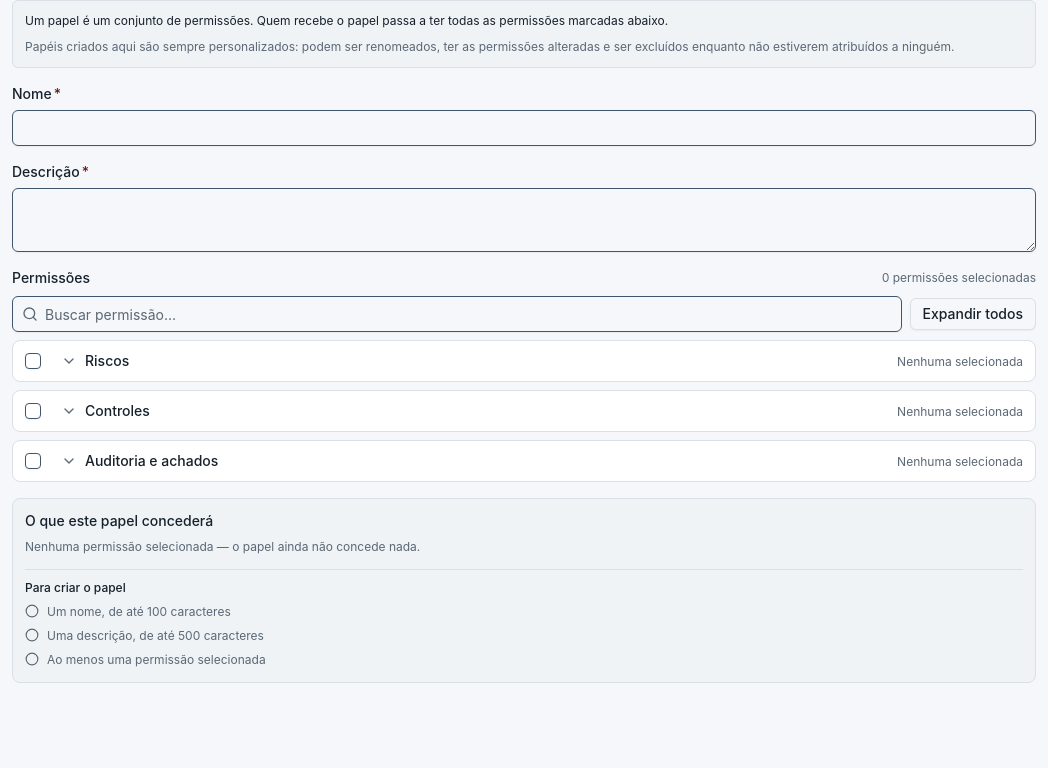
Test: RoleEditFields — searching the permission tree (migrated from PermissionChecklist) › says so when nothing matches, and restores the tree when the search is cleared
This screenshot has width=1048, height=768.
Expected: the button "Riscos Nenhuma selecionada" is shown, [49,341,1035,381]
Type "inexistente-xyz" into the field labelled "Buscar permissão" at point(457, 314), box [12,296,902,332]
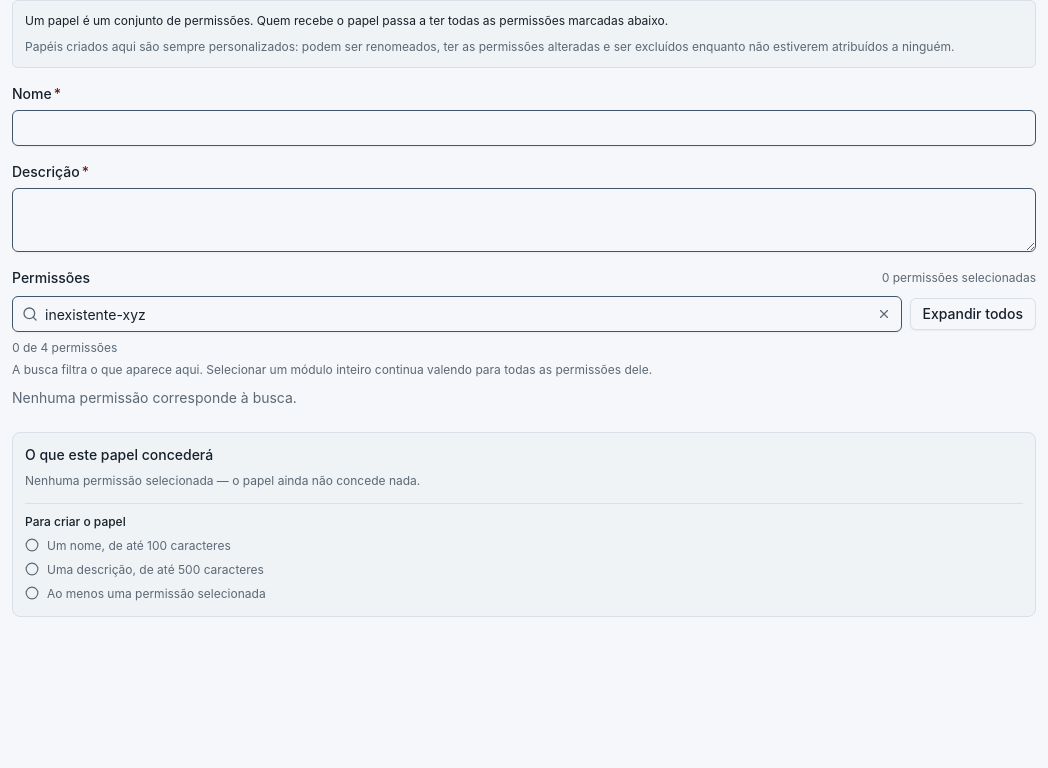
Expected: the text "Nenhuma permissão corresponde à busca." is shown, [12,389,297,406]
Expected: the button "Riscos" is gone
Click the button named "Limpar a busca de permissões" at point(884, 314), box [872,302,896,326]
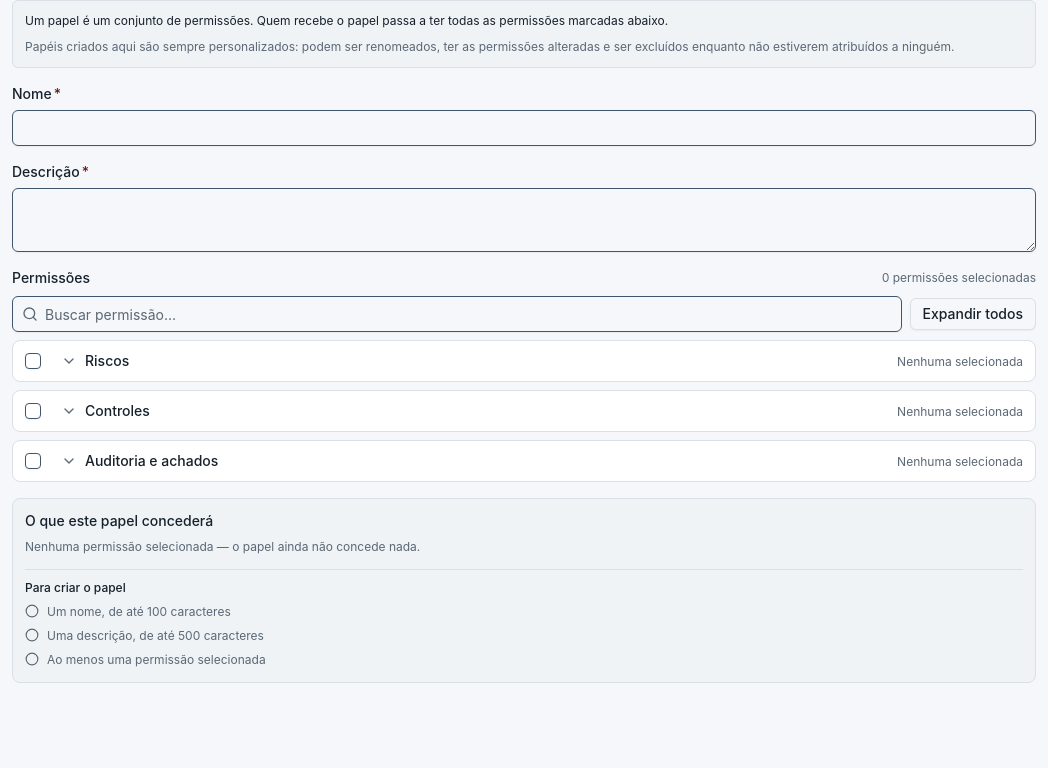
Expected: the button "Riscos Nenhuma selecionada" is shown, [49,341,1035,381]
Expected: the text "Nenhuma permissão corresponde à busca." is gone
